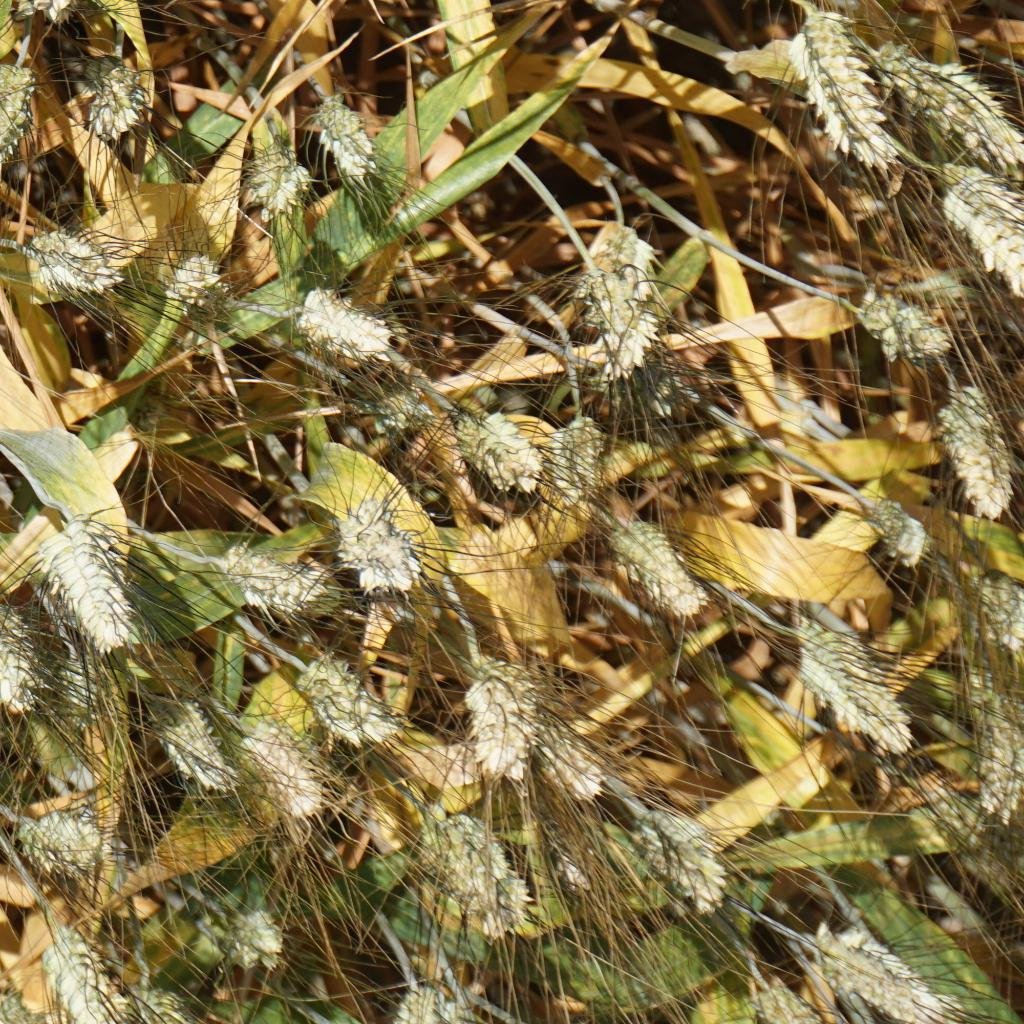0-0: (785, 1, 893, 173), (877, 47, 1022, 168), (783, 610, 905, 745), (419, 807, 523, 924), (458, 638, 543, 776), (635, 802, 735, 916), (598, 508, 708, 611), (54, 523, 147, 644), (813, 924, 928, 1020), (930, 393, 1016, 520), (293, 655, 402, 749), (933, 784, 1015, 899), (581, 278, 664, 389), (961, 669, 1024, 811), (857, 290, 958, 375), (22, 223, 126, 304), (948, 171, 1024, 279), (287, 289, 402, 360), (215, 538, 322, 611), (337, 492, 415, 589), (159, 679, 226, 790), (237, 727, 317, 819), (456, 406, 538, 492), (86, 54, 158, 147), (50, 934, 123, 1024), (547, 401, 611, 502), (525, 716, 601, 800), (13, 800, 104, 867), (317, 98, 379, 183), (0, 594, 39, 720), (0, 60, 43, 174), (584, 218, 657, 285), (969, 563, 1024, 651), (865, 489, 929, 564), (363, 378, 436, 436), (224, 912, 284, 970), (58, 650, 102, 727), (176, 246, 220, 315), (130, 977, 192, 1024), (257, 163, 307, 209), (396, 983, 449, 1024), (10, 0, 94, 23), (0, 983, 36, 1024)
